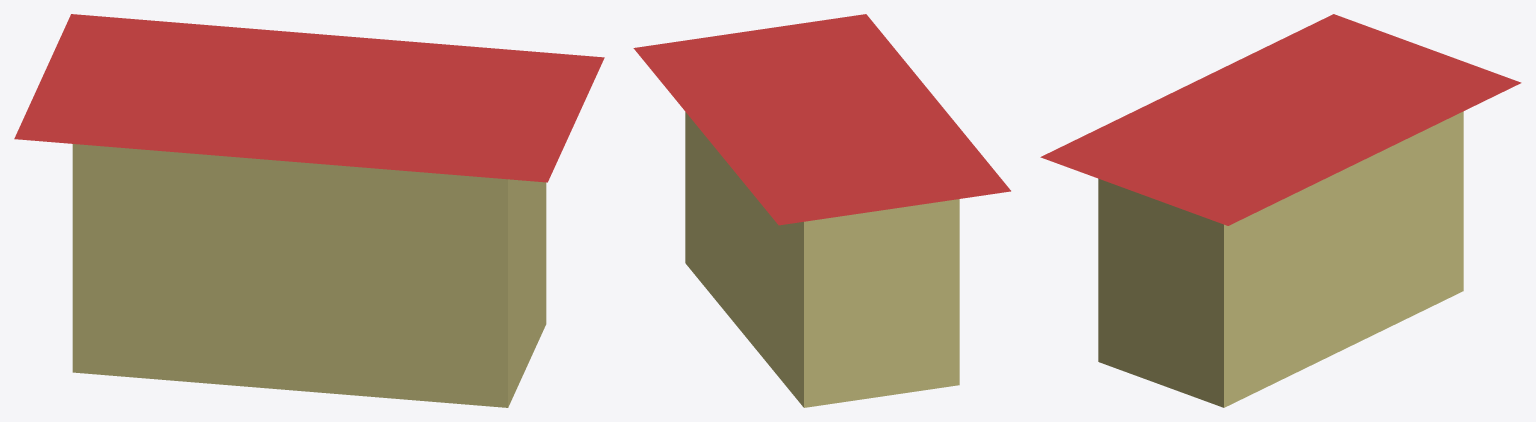
3 renders of one model, left to right at view 1: azimuth 30°, elevation 25°; view 2: azimuth 150°, elevation 25°; view 3: azimuth 270°, elevation 25°, orthographic. The views are drawn at different scales.
Visible parts, largest first — view 1: group_5, group_3, group_4; view 2: group_5, group_3, group_4; view 3: group_5, group_3, group_4.
Boxes of the visible parts, x1,y1,x2,y2 form: group_5: [72, 144, 546, 407]; group_3: [14, 14, 604, 182]; group_4: [15, 14, 604, 181]; group_5: [685, 112, 959, 407]; group_3: [633, 14, 1010, 225]; group_4: [634, 14, 1010, 225]; group_5: [1098, 111, 1463, 407]; group_3: [1040, 14, 1521, 225]; group_4: [1041, 14, 1516, 225].
Bounding box in the file's own units: 12.16 × 11.67 × 5.52.
